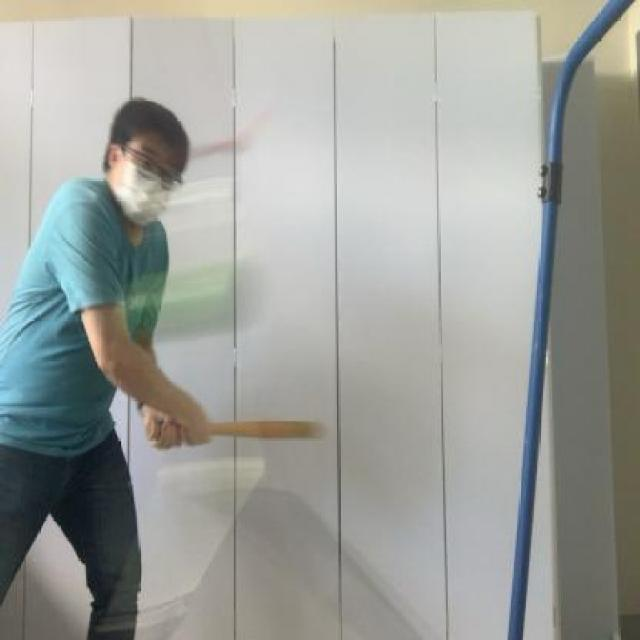baseball: (109, 258, 265, 344)
